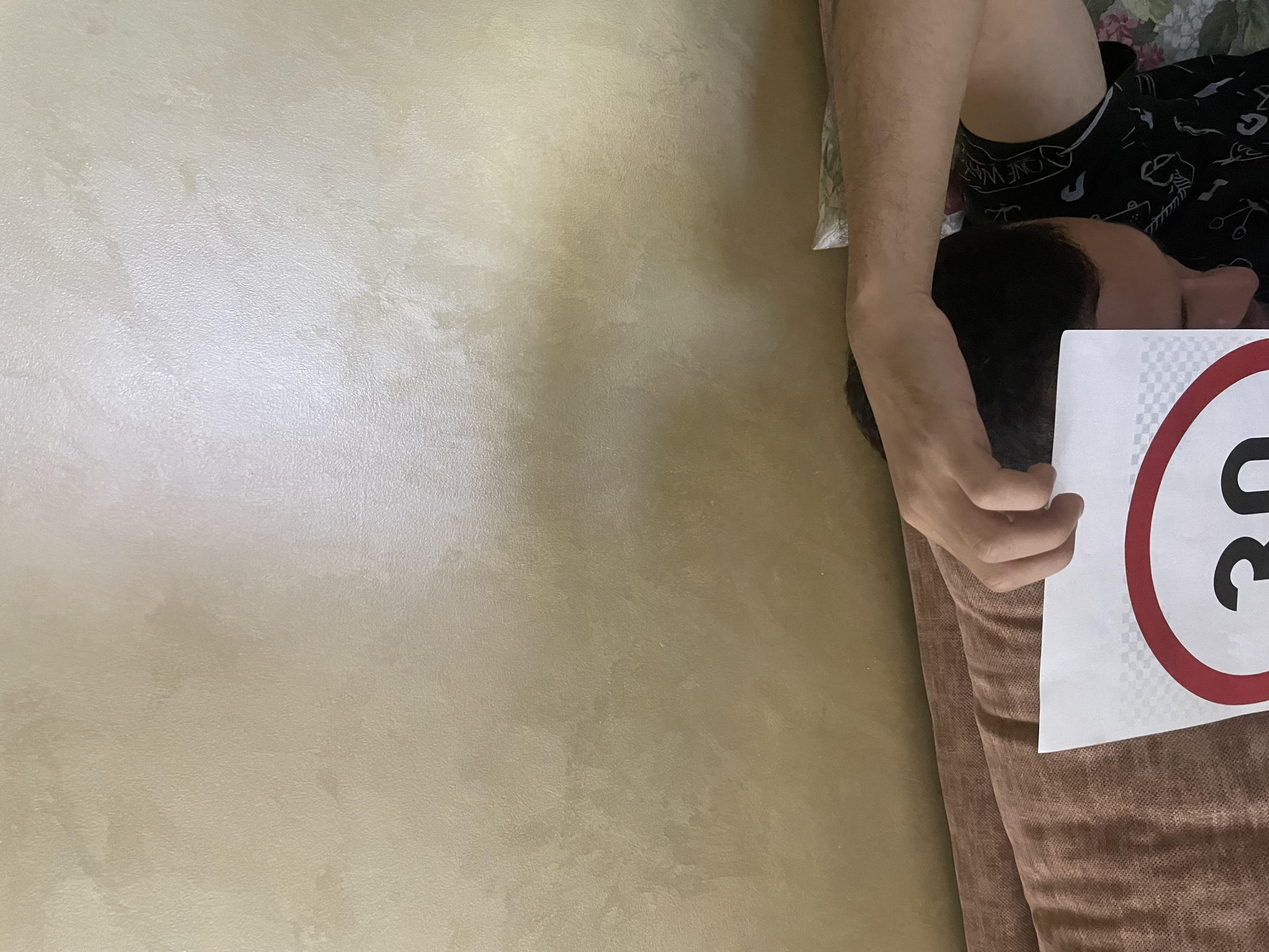30-speed: (324, 836, 818, 952)
